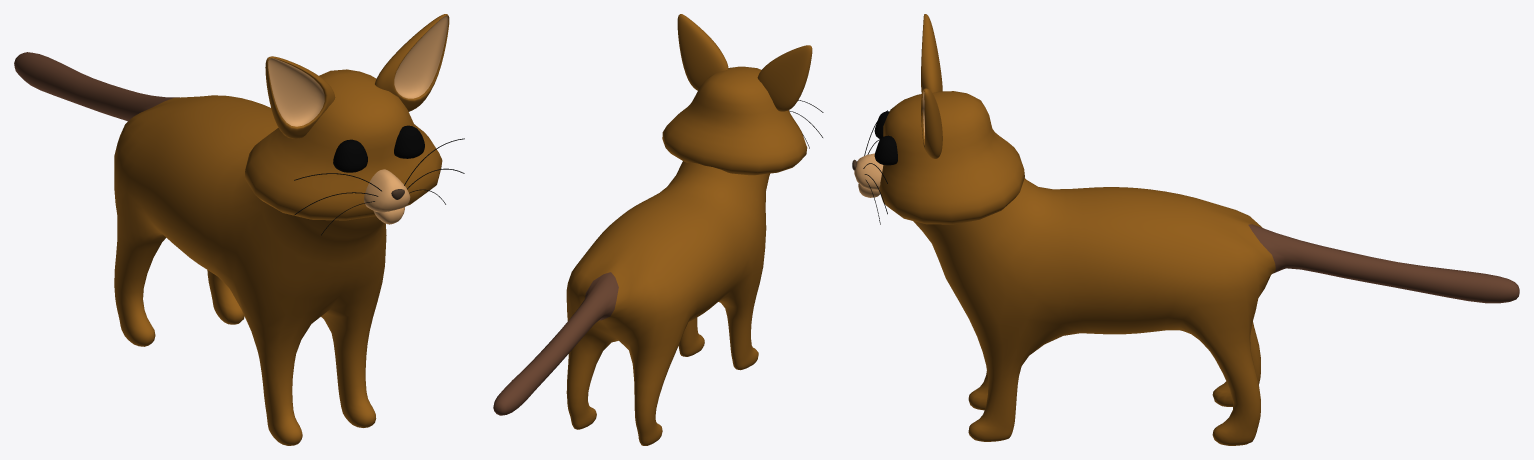
File: Cat.glb
3 renders of one model, left to right at view 1: azimuth 30°, elevation 25°; view 2: azimuth 150°, elevation 25°; view 3: azimuth 270°, elevation 25°, orthographic. The views are drawn at different scales.
Visible parts, largest first — view 1: Cat, Eyes_Cat; view 2: Cat; view 3: Cat, Eyes_Cat.
Part boxes in pixels (x1=…): Cat: x1=14, y1=14, x2=464, y2=445; Eyes_Cat: x1=333, y1=125, x2=424, y2=172; Cat: x1=493, y1=14, x2=823, y2=445; Cat: x1=852, y1=14, x2=1519, y2=445; Eyes_Cat: x1=874, y1=111, x2=897, y2=165.
Size of the model in its own units: 1.06 by 2.35 by 3.81.
